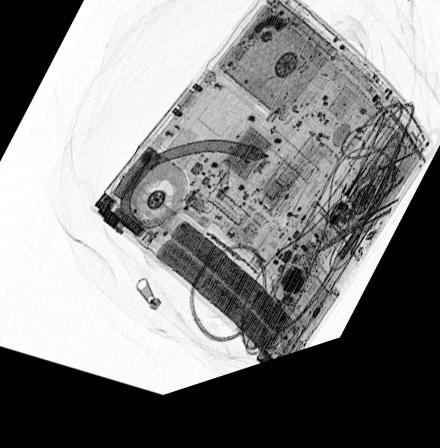Scissors: (310, 197, 407, 288)
